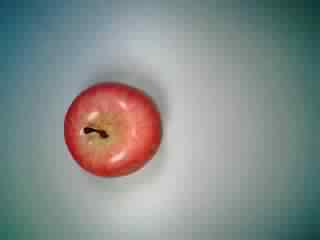apple: (62, 76, 168, 180)
